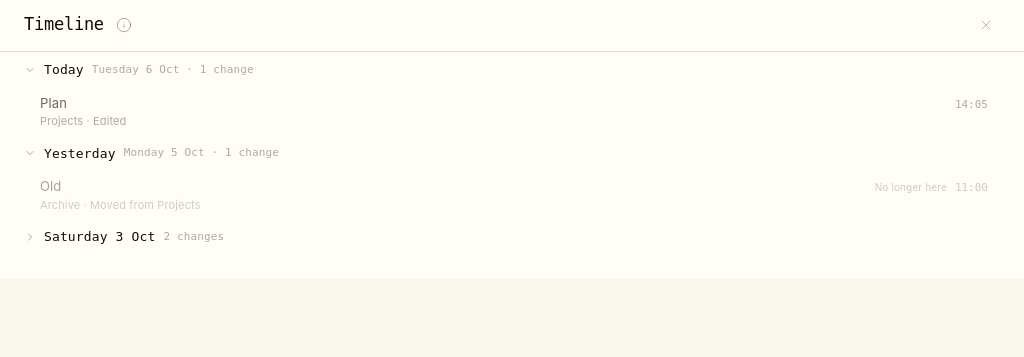
Scenario: TimelineView › opens today and yesterday, and keeps older days closed to their count
Expected: the button "Today Tuesday 6 Oct · 1 change" is shown, [18,57,994,82]
Expected: the button "Plan 14:05 Projects · Edited" is shown, [24,88,1000,136]
Step 1. Click the button "Saturday 3 Oct 2 changes" → [100, 236], box [18,224,994,250]
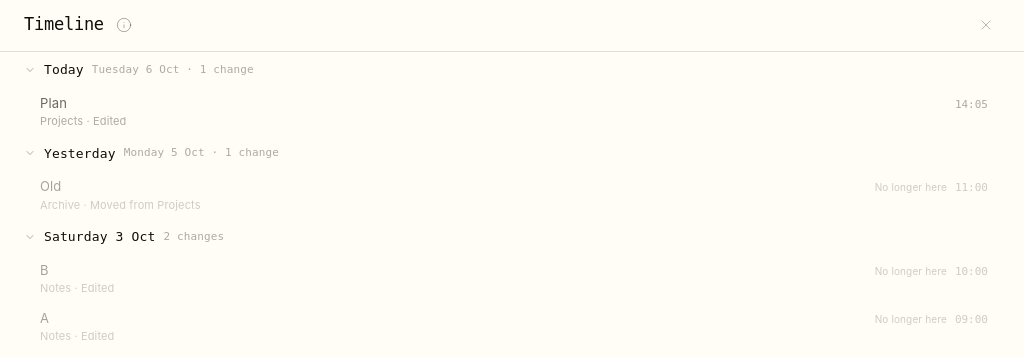
Result: the text "A" is shown at [40,310,49,326]
Result: the button "Saturday 3 Oct 2 changes" is expanded at [18,224,994,250]
